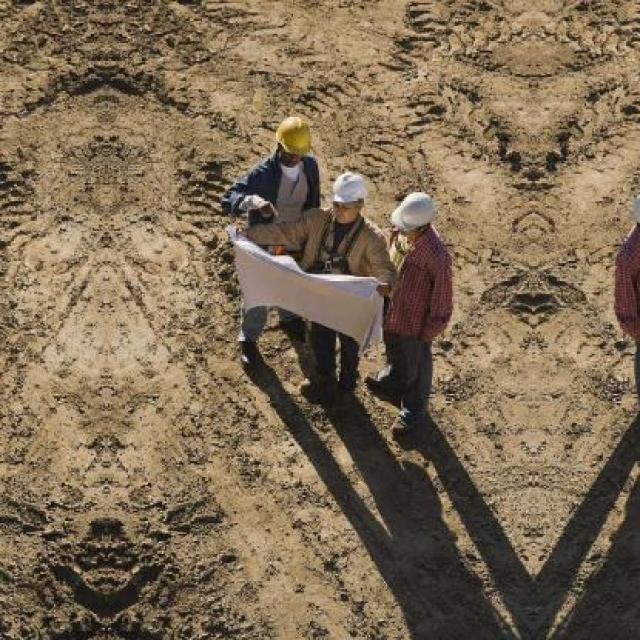helmet: (390, 187, 438, 244), (269, 115, 309, 162), (331, 170, 368, 218), (626, 186, 637, 245)
